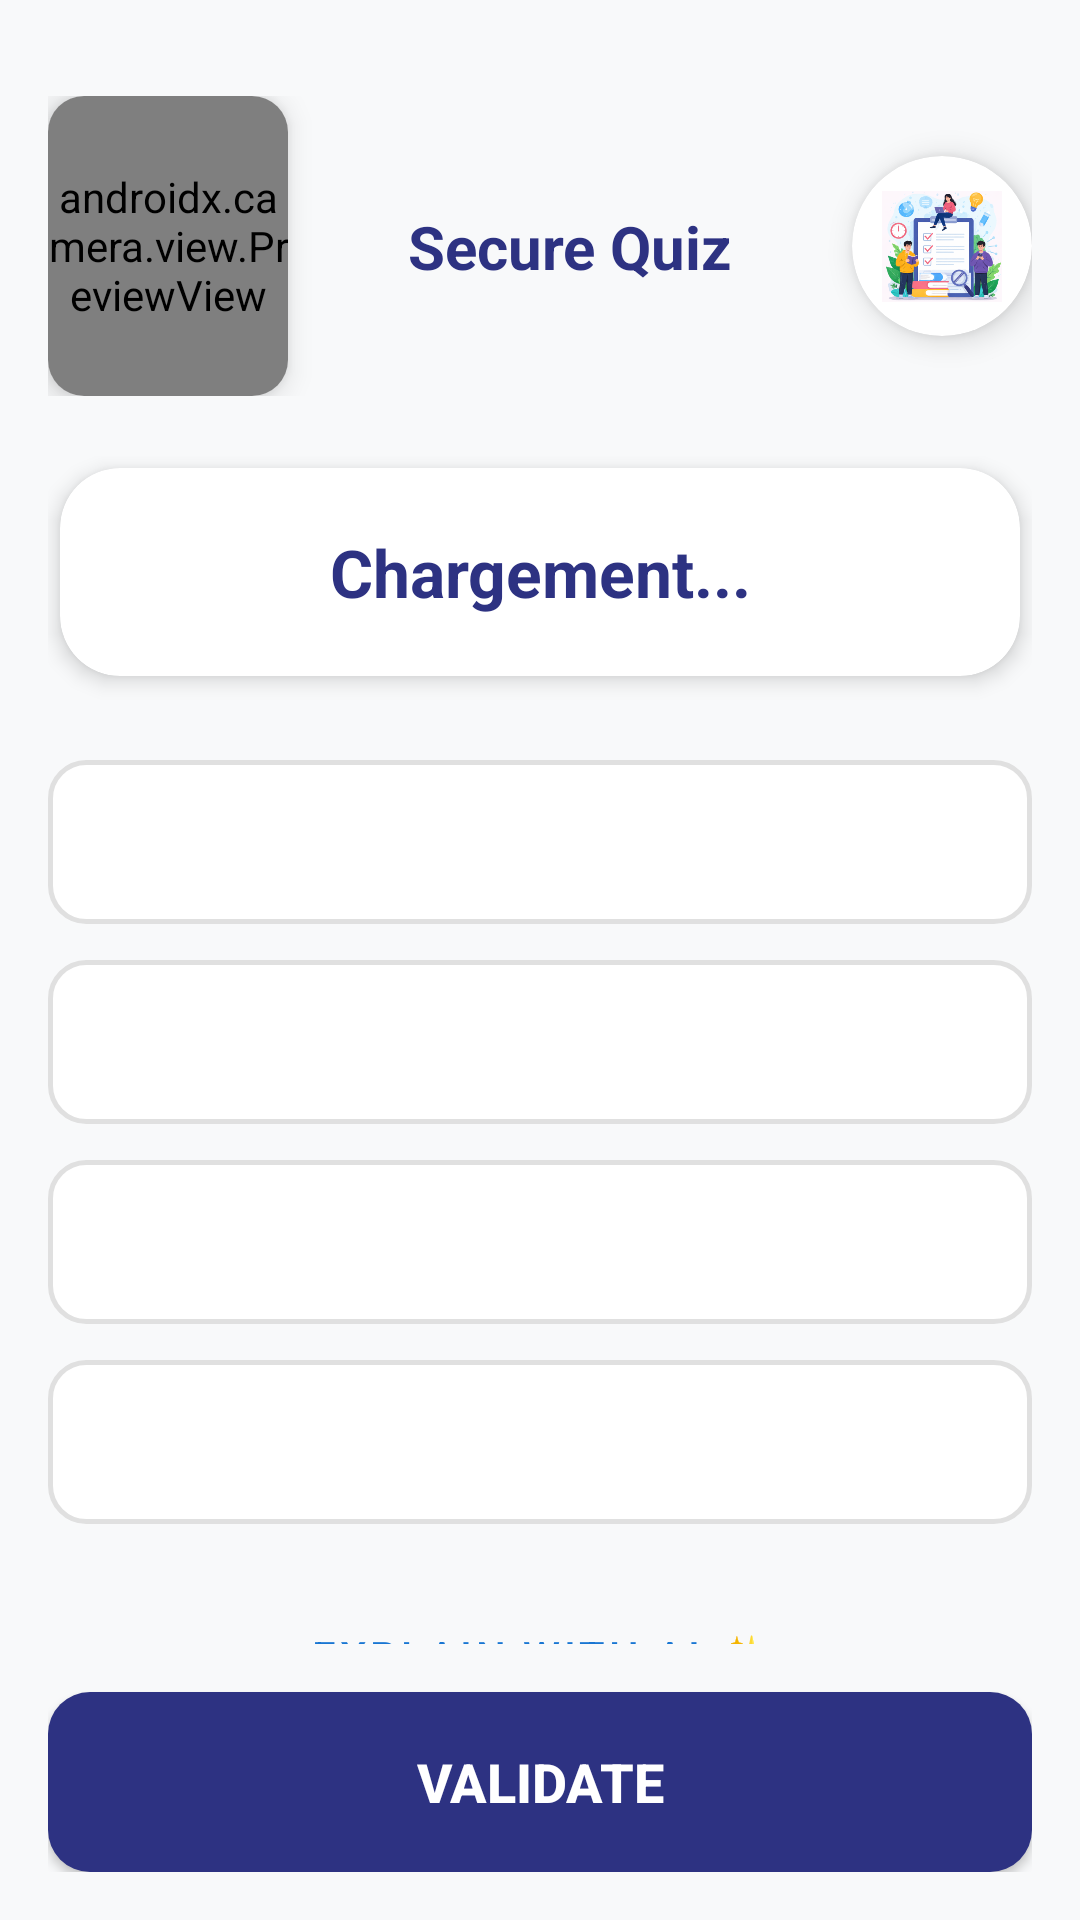

Point at icon controls on the screen. Image size 1080×1920, points as [x,y].
quiz illustration: [942,246]
